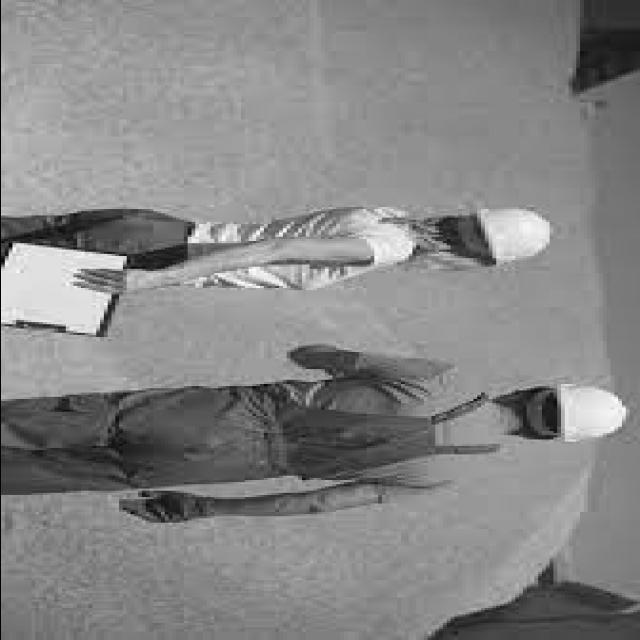safety_helmet: (522, 384, 625, 444), (450, 205, 552, 265)
